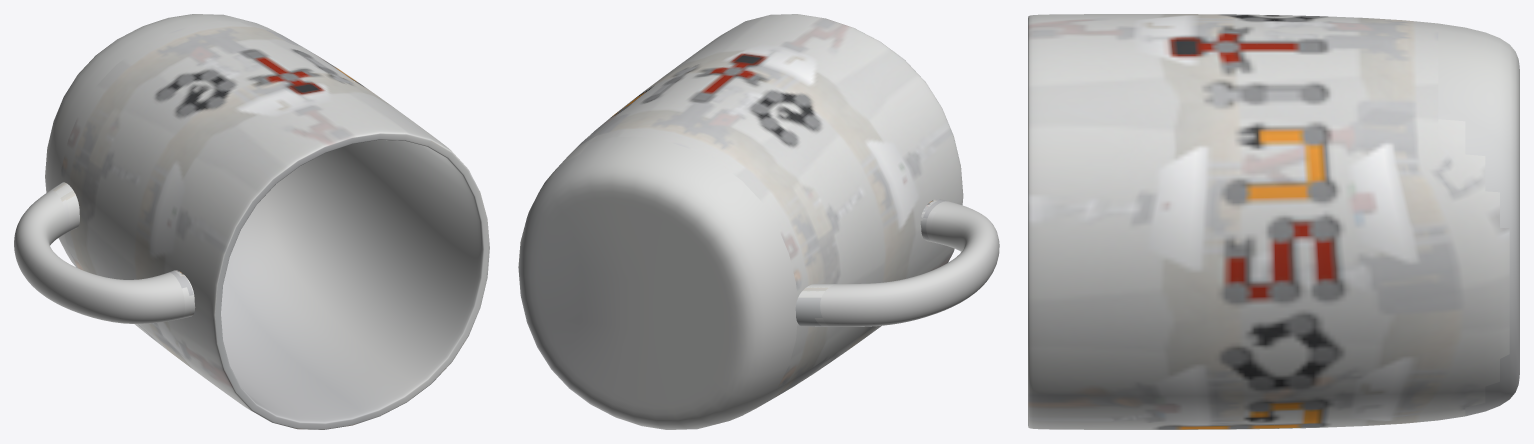
The model's file is mug.obj.
3 renders of one model, left to right at view 1: azimuth 30°, elevation 25°; view 2: azimuth 150°, elevation 25°; view 3: azimuth 270°, elevation 25°, orthographic. The views are drawn at different scales.
Visible parts, largest first — view 1: mug_Cube.001; view 2: mug_Cube.001; view 3: mug_Cube.001.
Boxes of the visible parts, x1=… form: mug_Cube.001: x1=14, y1=14, x2=489, y2=429; mug_Cube.001: x1=518, y1=14, x2=999, y2=429; mug_Cube.001: x1=1028, y1=14, x2=1519, y2=429.
Bounding box in the file's own units: 0.2452 × 0.1832 × 0.2193.
